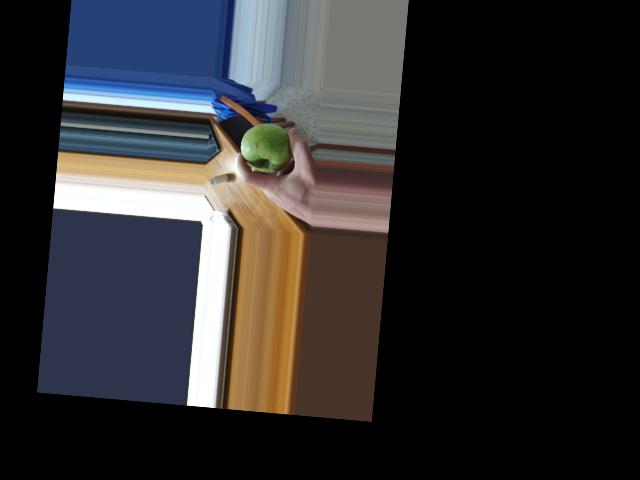apple: (236, 120, 295, 175)
